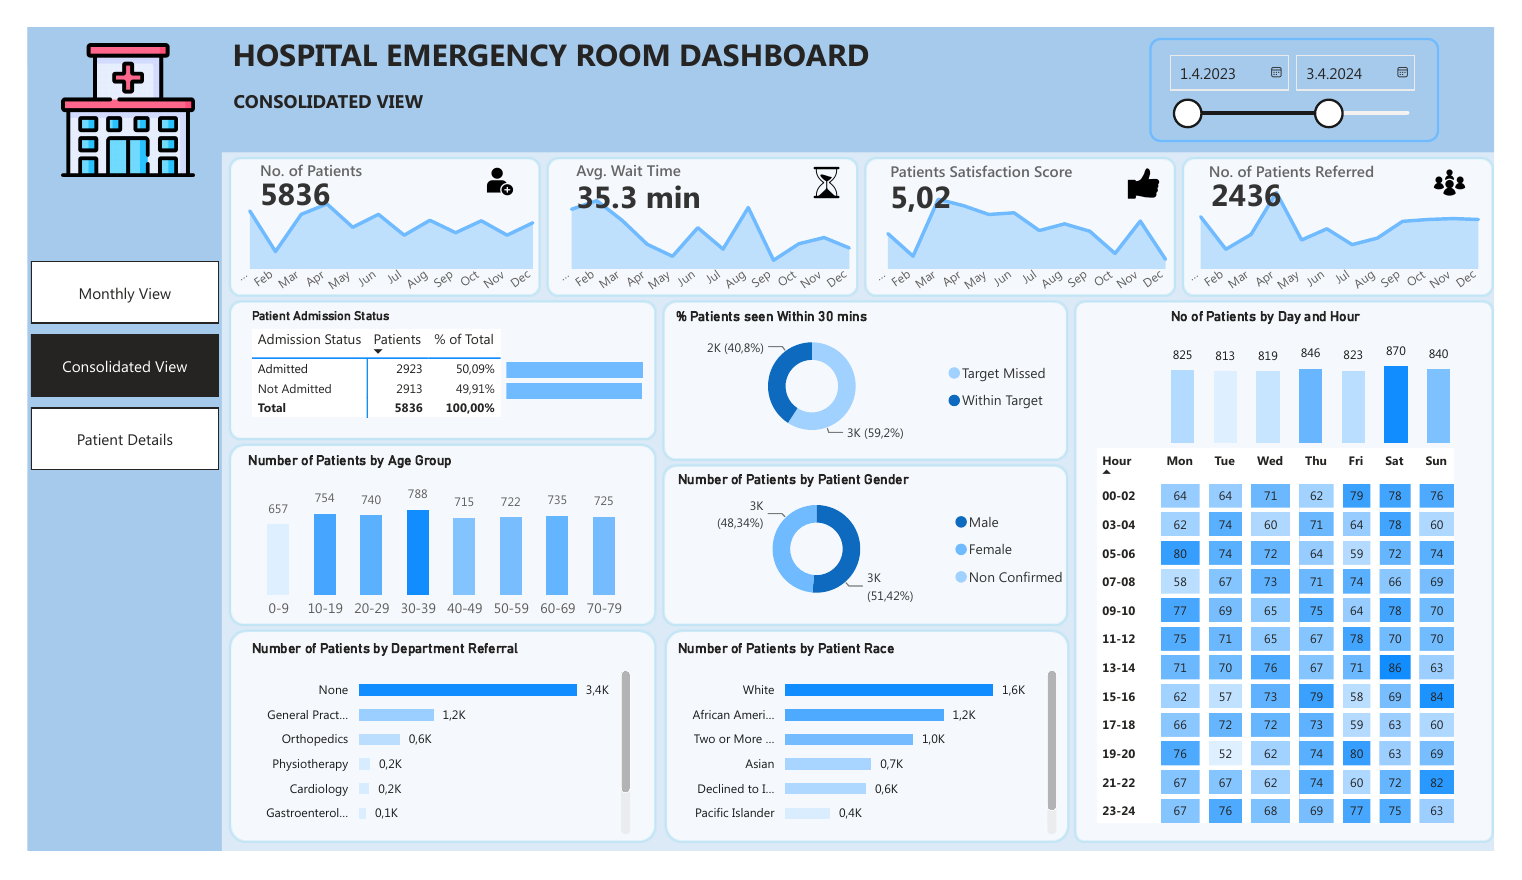

What the dashboard file says about the page in this screenshot:
{"tool":"powerbi","page":{"name":"Consolidated View","canvas":[1280,720],"ordinal":1},"visuals":[{"type":"areaChart","fields":{"Category":["Date.Month"],"Y":["_Measure.Average Wait Time"]},"box":[454.6,130,276.2,110.9],"z":0},{"type":"areaChart","fields":{"Category":["Date.Month"],"Y":["_Measure.Number of Patients"]},"box":[174.4,130,280.2,110.9],"z":1000},{"type":"cardVisual","fields":{"Data":["_Measure.Number of Patients"]},"box":[197.5,130,100.8,52.4],"z":2000},{"type":"textbox","box":[197.5,110.9,113.9,35.3],"z":3000},{"type":"image","box":[395.1,122,35.3,25.2],"z":4000},{"type":"pivotTable","title":"Patient Admission Status","fields":{"Rows":["Hospital Data.Admission Status"],"Values":["_Measure.Number of Patients1","_Measure.Number of Patients"]},"box":[191.5,245.9,248.9,104.8],"z":5000},{"type":"textbox","box":[174.4,0,581.5,49.4],"z":6000},{"type":"areaChart","fields":{"Category":["Date.Month"],"Y":["_Measure.Patient Satisfaction Score"]},"box":[730.7,130,276.2,110.9],"z":9000},{"type":"image","box":[678.3,120.9,36.3,28.2],"z":10000},{"type":"cardVisual","fields":{"Data":["_Measure.Patient Satisfaction Score"]},"box":[723.7,110.9,132,70.6],"z":11000},{"type":"image","box":[955.5,122,37.3,28.2],"z":12000},{"type":"textbox","box":[473.7,110.9,113.9,35.3],"z":13000},{"type":"textbox","box":[747.8,111.9,180.4,35.3],"z":14000},{"type":"areaChart","fields":{"Category":["Date.Month"],"Y":["_Measure.Patient Referred"]},"box":[1003.8,130,276.2,110.9],"z":15000},{"type":"cardVisual","fields":{"Data":["_Measure.Avg. Wait Time w/min"]},"box":[449.5,106.8,190.5,78.6],"z":16000},{"type":"cardVisual","fields":{"Data":["_Measure.Patient Referred"]},"box":[1003.8,110.9,132,65.5],"z":17000},{"type":"textbox","box":[1026,111.9,172.3,35.3],"z":18000},{"type":"image","box":[1223.6,120.9,33.3,28.2],"z":19000},{"type":"barChart","fields":{"Category":["Hospital Data.Admission Status"],"Y":["_Measure.Number of Patients"]},"box":[413.2,270.1,132,68.5],"z":20000},{"type":"columnChart","fields":{"Category":["Hospital Data.Age Group"],"Y":["_Measure.Number of Patients"]},"box":[188.5,370.9,346.7,154.2],"z":21000},{"type":"donutChart","fields":{"Category":["Hospital Data.Patient Gender"],"Y":["_Measure.Number of Patients"]},"box":[563.4,388,354.8,120.9],"z":22000},{"type":"barChart","fields":{"Category":["Hospital Data.Department Referral"],"Y":["_Measure.Number of Patients"]},"box":[191.5,535.2,339.7,173.4],"z":23000},{"type":"barChart","fields":{"Y":["_Measure.Number of Patients"],"Category":["Hospital Data.Patient Race"]},"box":[563.4,535.2,339.7,173.4],"z":24000},{"type":"donutChart","title":"% Patients seen Within 30 mins","fields":{"Y":["_Measure.Number of Patients"],"Category":["Hospital Data.Waittime"]},"box":[561.4,245.9,341.7,120.9],"z":25000},{"type":"pivotTable","fields":{"Rows":["Hospital Data.Waittime Interval"],"Columns":["Date.Day"],"Values":["_Measure.Number of Patients"]},"box":[928.3,361.8,328.6,346.7],"z":26000},{"type":"columnChart","title":"No of Patients by Day and Hour","fields":{"Y":["_Measure.Number of Patients"],"Category":["Date.Day of Week"]},"box":[992.8,245.9,255,123],"z":27000},{"type":"slicer","fields":{"Values":["Date.Date"]},"box":[978.6,9.1,253,90.7],"z":28000},{"type":"image","box":[29.2,14.1,116.9,115.9],"z":29000},{"type":"textbox","box":[175.4,49.4,186.5,36.3],"z":29001},{"type":"pageNavigator","box":[3,203.6,164.3,182.4],"z":29002}]}

Visuals, with their boxes in screenshot pixels (x1, y1, x2, y2), scaled from the page's 1280x720 canvas onto the 1522x880 screenshot:
areaChart - Date.Month x _Measure.Average Wait Time: (left=541, top=159, right=869, bottom=294)
areaChart - Date.Month x _Measure.Number of Patients: (left=207, top=159, right=541, bottom=294)
cardVisual - _Measure.Number of Patients: (left=235, top=159, right=355, bottom=223)
textbox: (left=235, top=136, right=370, bottom=179)
image: (left=470, top=149, right=512, bottom=180)
"Patient Admission Status" pivotTable: (left=228, top=301, right=524, bottom=429)
textbox: (left=207, top=0, right=899, bottom=60)
areaChart - Date.Month x _Measure.Patient Satisfaction Score: (left=869, top=159, right=1197, bottom=294)
image: (left=807, top=148, right=850, bottom=182)
cardVisual - _Measure.Patient Satisfaction Score: (left=861, top=136, right=1017, bottom=222)
image: (left=1136, top=149, right=1181, bottom=184)
textbox: (left=563, top=136, right=699, bottom=179)
textbox: (left=889, top=137, right=1104, bottom=180)
areaChart - Date.Month x _Measure.Patient Referred: (left=1194, top=159, right=1521, bottom=294)
cardVisual - _Measure.Avg. Wait Time w/min: (left=534, top=131, right=761, bottom=227)
cardVisual - _Measure.Patient Referred: (left=1194, top=136, right=1351, bottom=216)
textbox: (left=1220, top=137, right=1425, bottom=180)
image: (left=1455, top=148, right=1495, bottom=182)
barChart - Hospital Data.Admission Status x _Measure.Number of Patients: (left=491, top=330, right=648, bottom=414)
columnChart - Hospital Data.Age Group x _Measure.Number of Patients: (left=224, top=453, right=636, bottom=642)
donutChart - Hospital Data.Patient Gender x _Measure.Number of Patients: (left=670, top=474, right=1092, bottom=622)
barChart - Hospital Data.Department Referral x _Measure.Number of Patients: (left=228, top=654, right=632, bottom=866)
barChart - _Measure.Number of Patients x Hospital Data.Patient Race: (left=670, top=654, right=1074, bottom=866)
"% Patients seen Within 30 mins" donutChart: (left=668, top=301, right=1074, bottom=448)
pivotTable - Hospital Data.Waittime Interval x Date.Day: (left=1104, top=442, right=1495, bottom=866)
"No of Patients by Day and Hour" columnChart: (left=1181, top=301, right=1484, bottom=451)
slicer - Date.Date: (left=1164, top=11, right=1464, bottom=122)
image: (left=35, top=17, right=174, bottom=159)
textbox: (left=209, top=60, right=430, bottom=105)
pageNavigator: (left=4, top=249, right=199, bottom=472)
